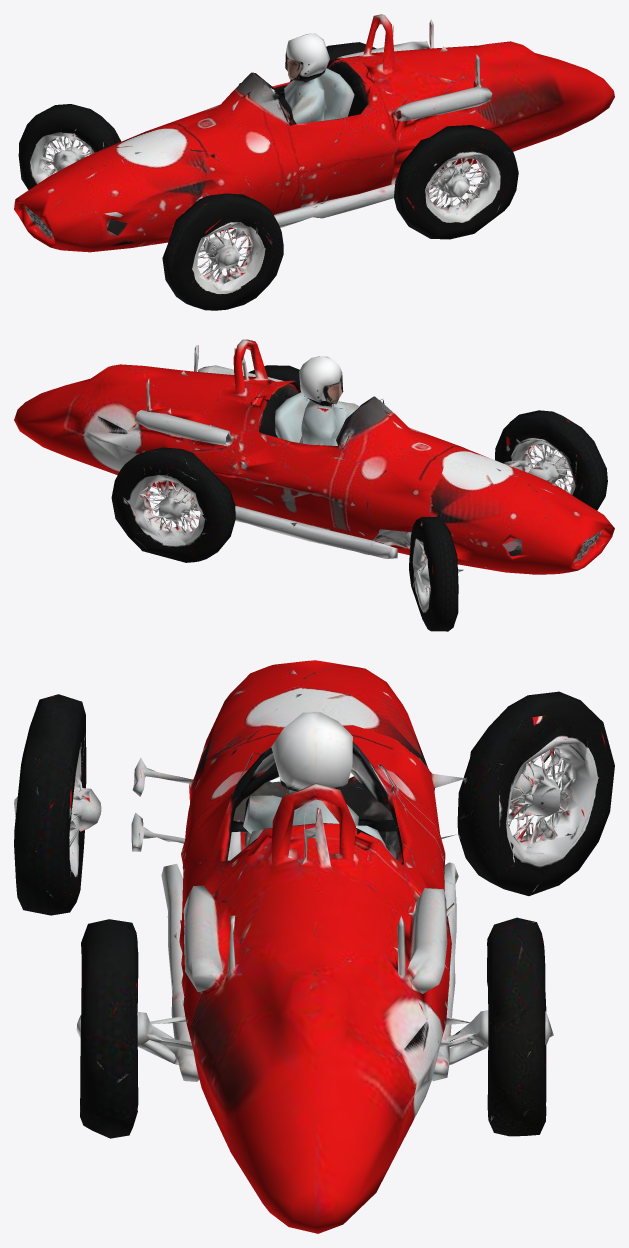
File: monoposto.glb
3 views of the same model, one above another, from view 1: azimuth 30°, elevation 25°; view 2: azimuth 150°, elevation 25°; view 3: azimuth 270°, elevation 25° (orthographic). The views are drawn at different scales.
Size of the model in its own units: 1.9 by 0.5665 by 0.9478.
Materials: 1 (1 with a texture image).
